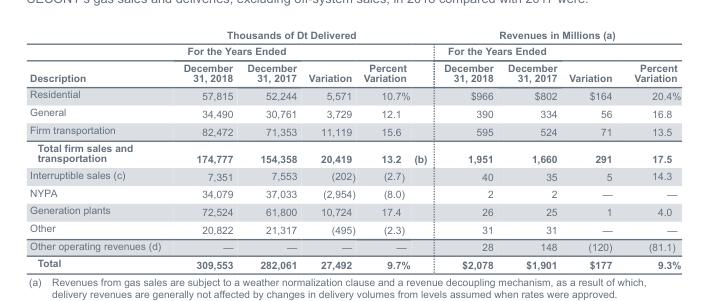table: (29, 28, 680, 269)
table column: (29, 28, 171, 269), (358, 28, 434, 269), (171, 28, 239, 269), (434, 28, 499, 269), (239, 28, 302, 269), (499, 28, 562, 269), (562, 28, 622, 269), (622, 28, 680, 269), (302, 28, 358, 269)
table column header: (29, 28, 680, 85)
table row: (29, 139, 680, 166), (29, 59, 680, 85), (29, 85, 680, 103), (29, 103, 680, 121), (29, 121, 680, 139), (29, 166, 680, 184), (29, 201, 680, 219), (29, 219, 680, 237), (29, 42, 680, 59), (29, 184, 680, 201), (29, 237, 680, 254), (29, 254, 680, 269), (29, 28, 680, 42)
table spanning cell: (29, 28, 171, 85), (171, 28, 434, 42), (434, 28, 680, 42), (358, 42, 434, 85), (562, 42, 622, 85), (622, 42, 680, 85), (302, 42, 358, 85), (171, 42, 302, 59), (434, 42, 562, 59)
